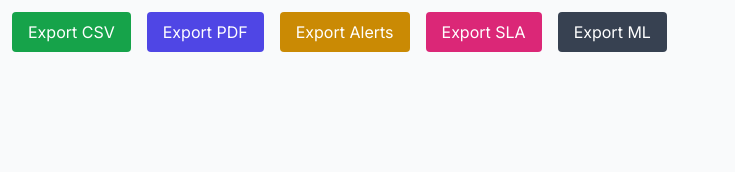
Test: ExportButtons › shows error if download fails
Click the button "Export CSV": {"x": 71, "y": 32} [12,12,131,52]
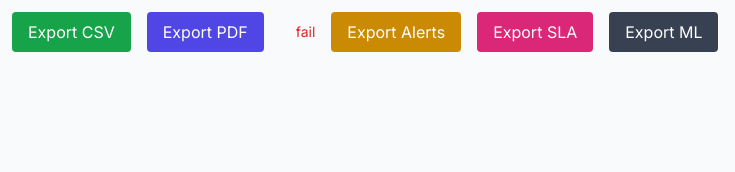
Now the text "fail" is shown, box [296,22,315,42]
